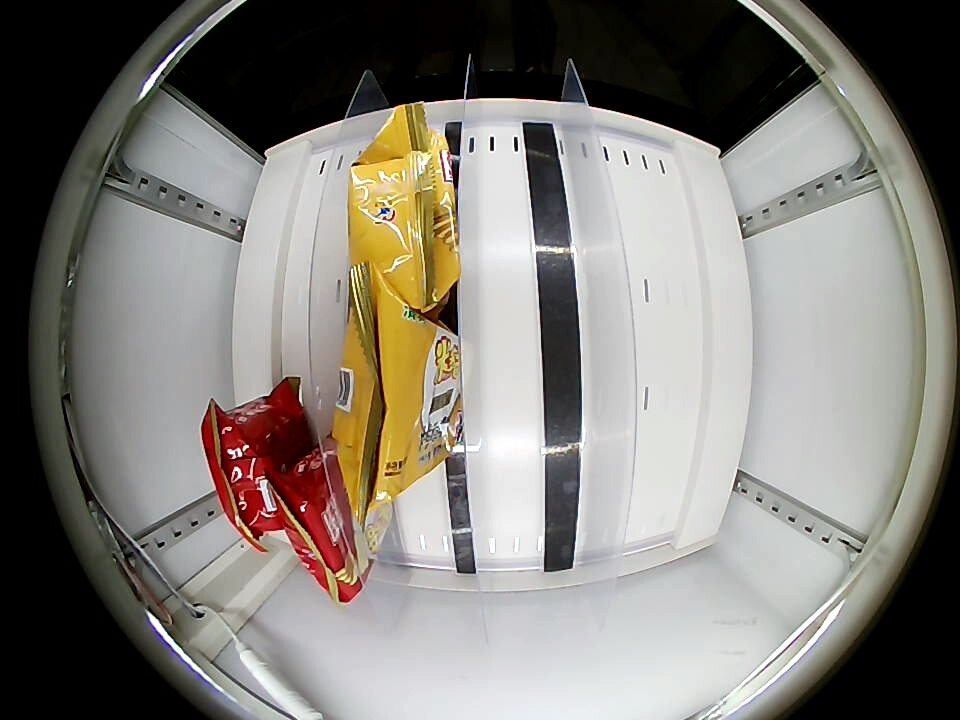kaomo_gali: (339, 289, 464, 498), (348, 130, 460, 312)
kaomo_shaokao: (203, 392, 308, 545), (273, 449, 376, 601)
